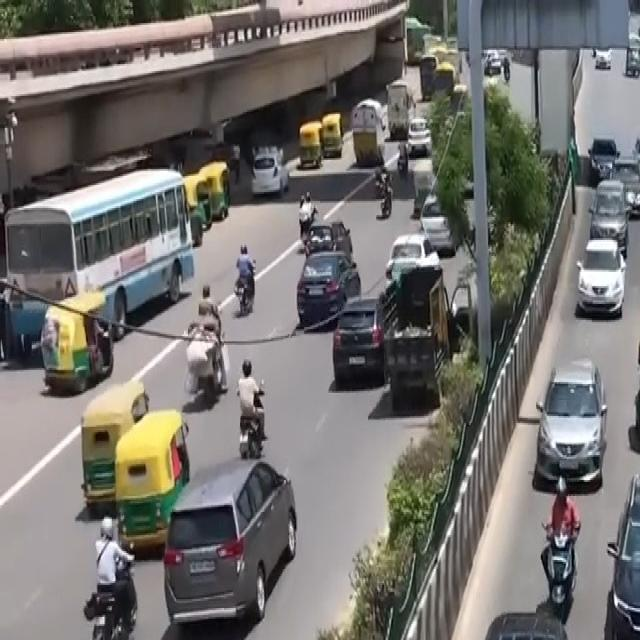car: (151, 450, 308, 640), (526, 348, 618, 502), (590, 451, 640, 640), (413, 590, 602, 640), (327, 284, 393, 396), (290, 244, 366, 338), (570, 224, 634, 327)
motorbike: (69, 510, 150, 640), (530, 473, 591, 626), (226, 350, 277, 471)
rickshaw: (72, 366, 160, 526), (107, 395, 194, 548), (623, 322, 640, 471)
